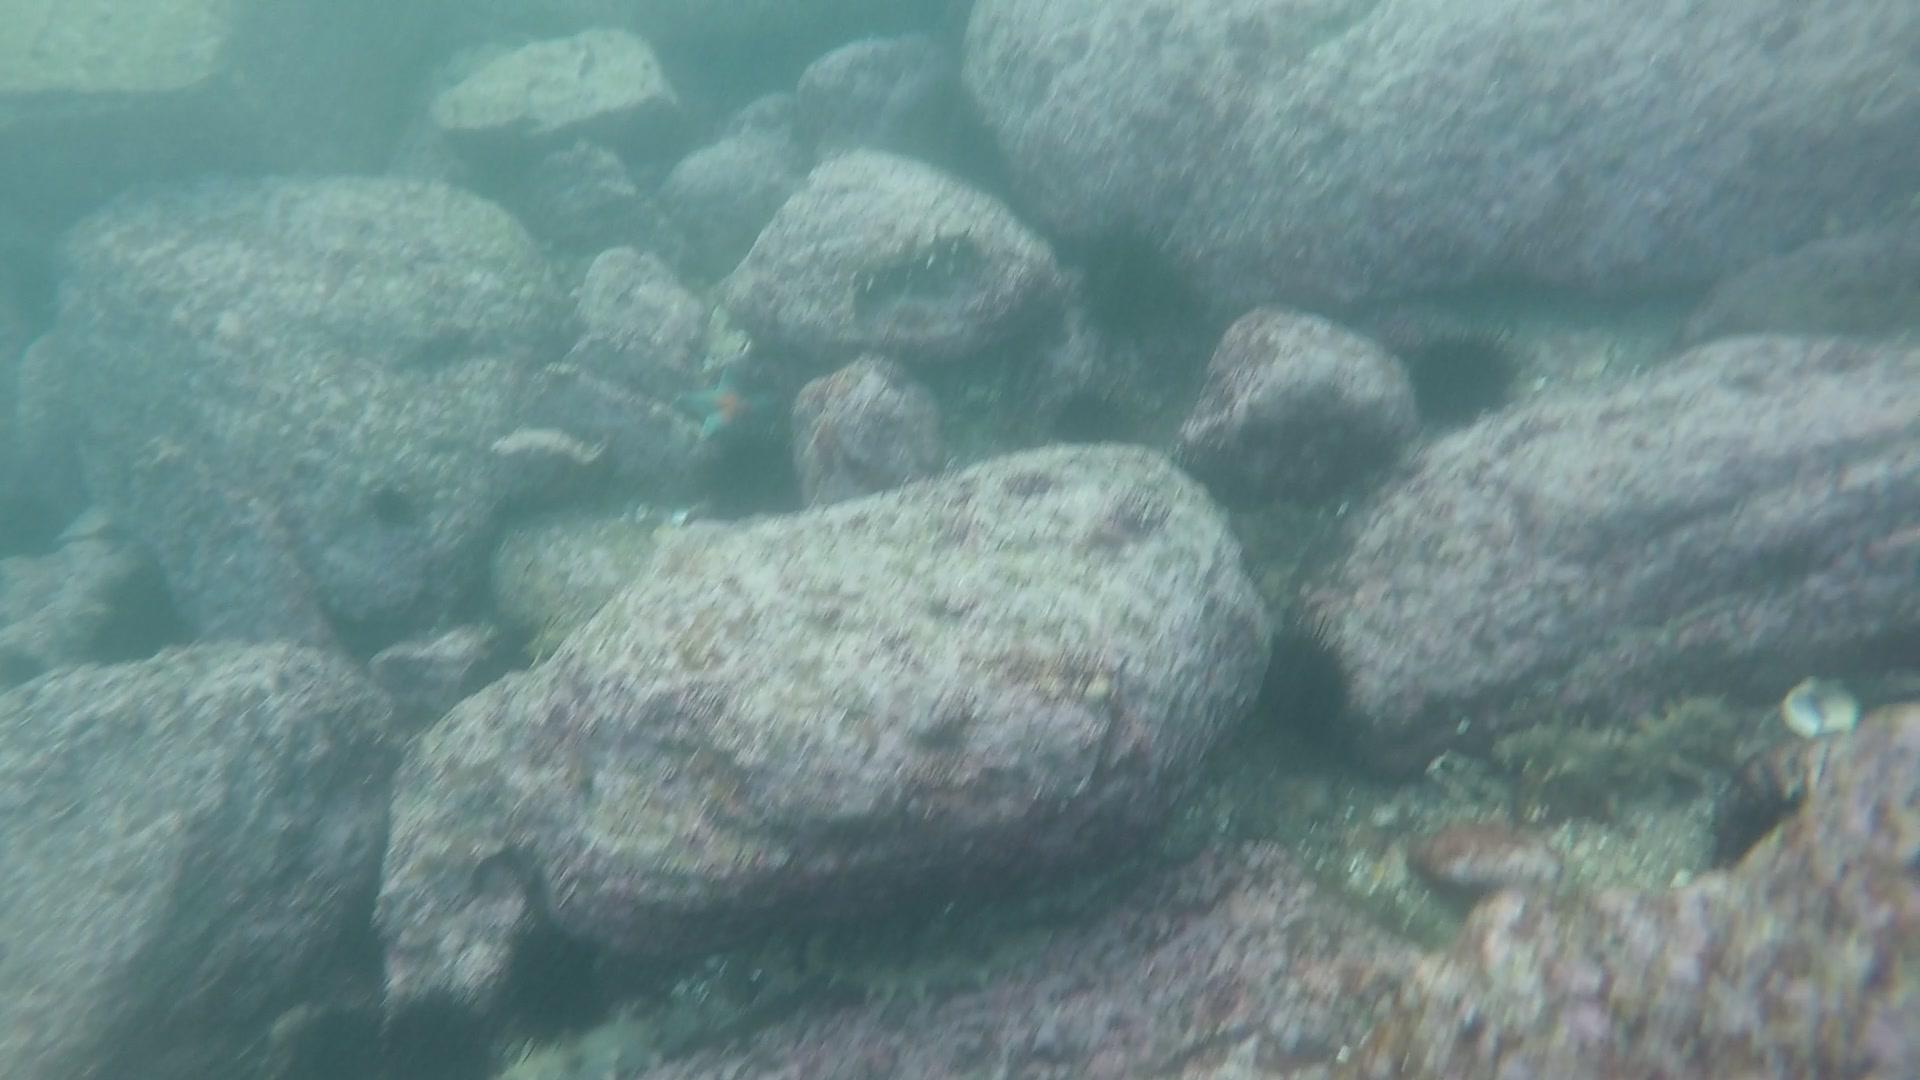echinus: (1073, 215, 1212, 363), (495, 920, 616, 1059), (1406, 320, 1539, 434), (1255, 615, 1360, 742), (83, 559, 189, 671), (381, 978, 496, 1075), (695, 434, 806, 521), (291, 1002, 389, 1080), (931, 111, 1019, 194), (1179, 430, 1250, 516), (1048, 381, 1131, 448), (3, 480, 62, 564), (371, 484, 433, 539)
holothurian: (1491, 694, 1751, 808), (795, 920, 1065, 1005), (496, 990, 711, 1080), (843, 223, 993, 319), (1236, 492, 1338, 608)
starfish: (671, 357, 796, 446)
